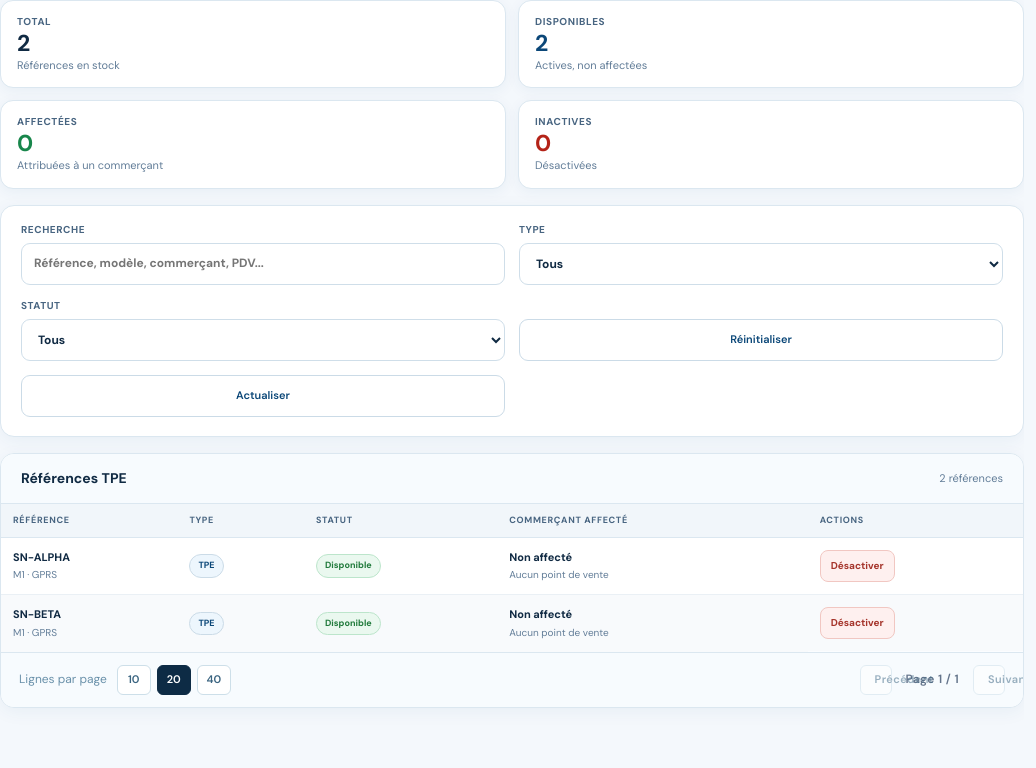
it: SupervisorTpeStockPage › recherche par numero de serie
expect the text "SN-ALPHA" is shown: met, box [13,550,70,564]
Type "BETA" into the field with placeholder "Référence, modèle, commerçant, PDV..." at (263, 264), box [21,243,505,285]
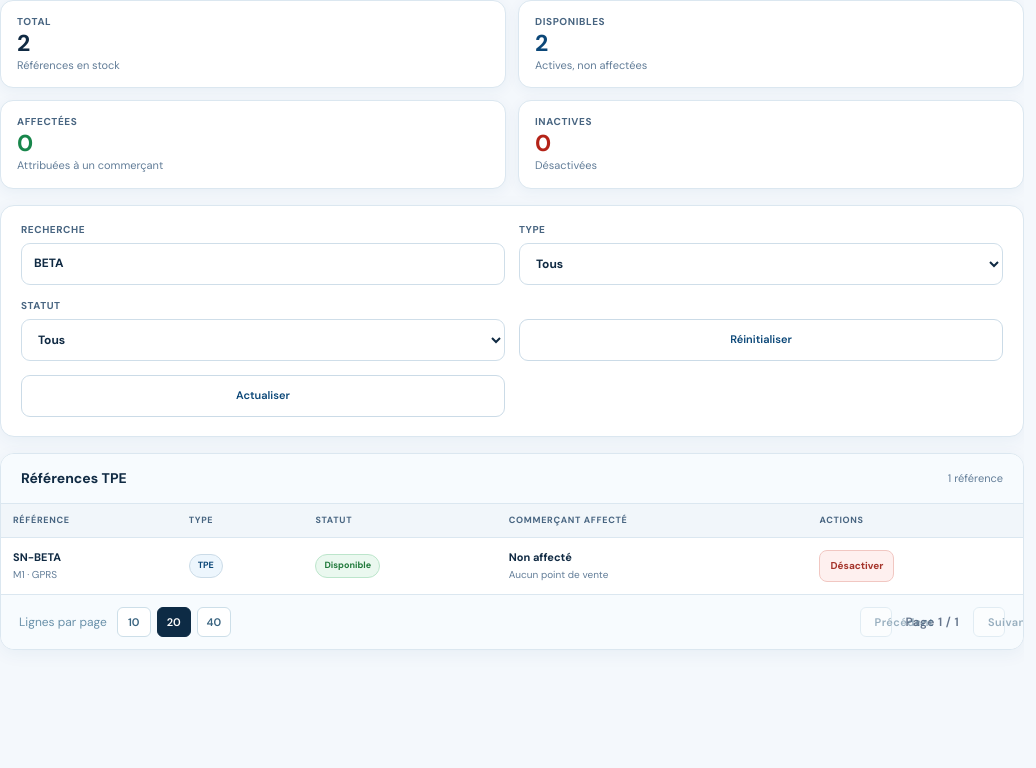
expect the text "SN-BETA" is shown: met, box [13,550,61,564]
expect the text "SN-ALPHA" is gone: met
